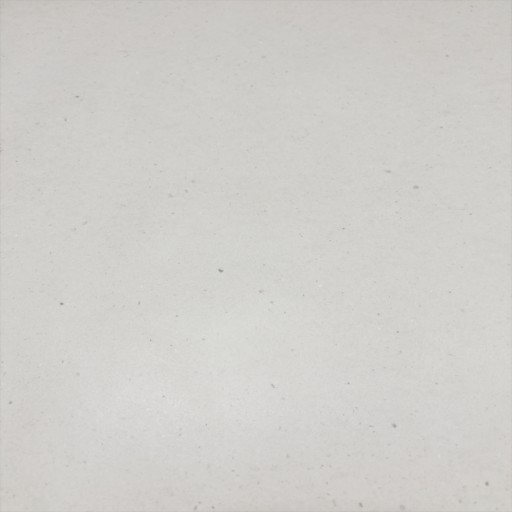lego: (206, 228, 306, 284)
